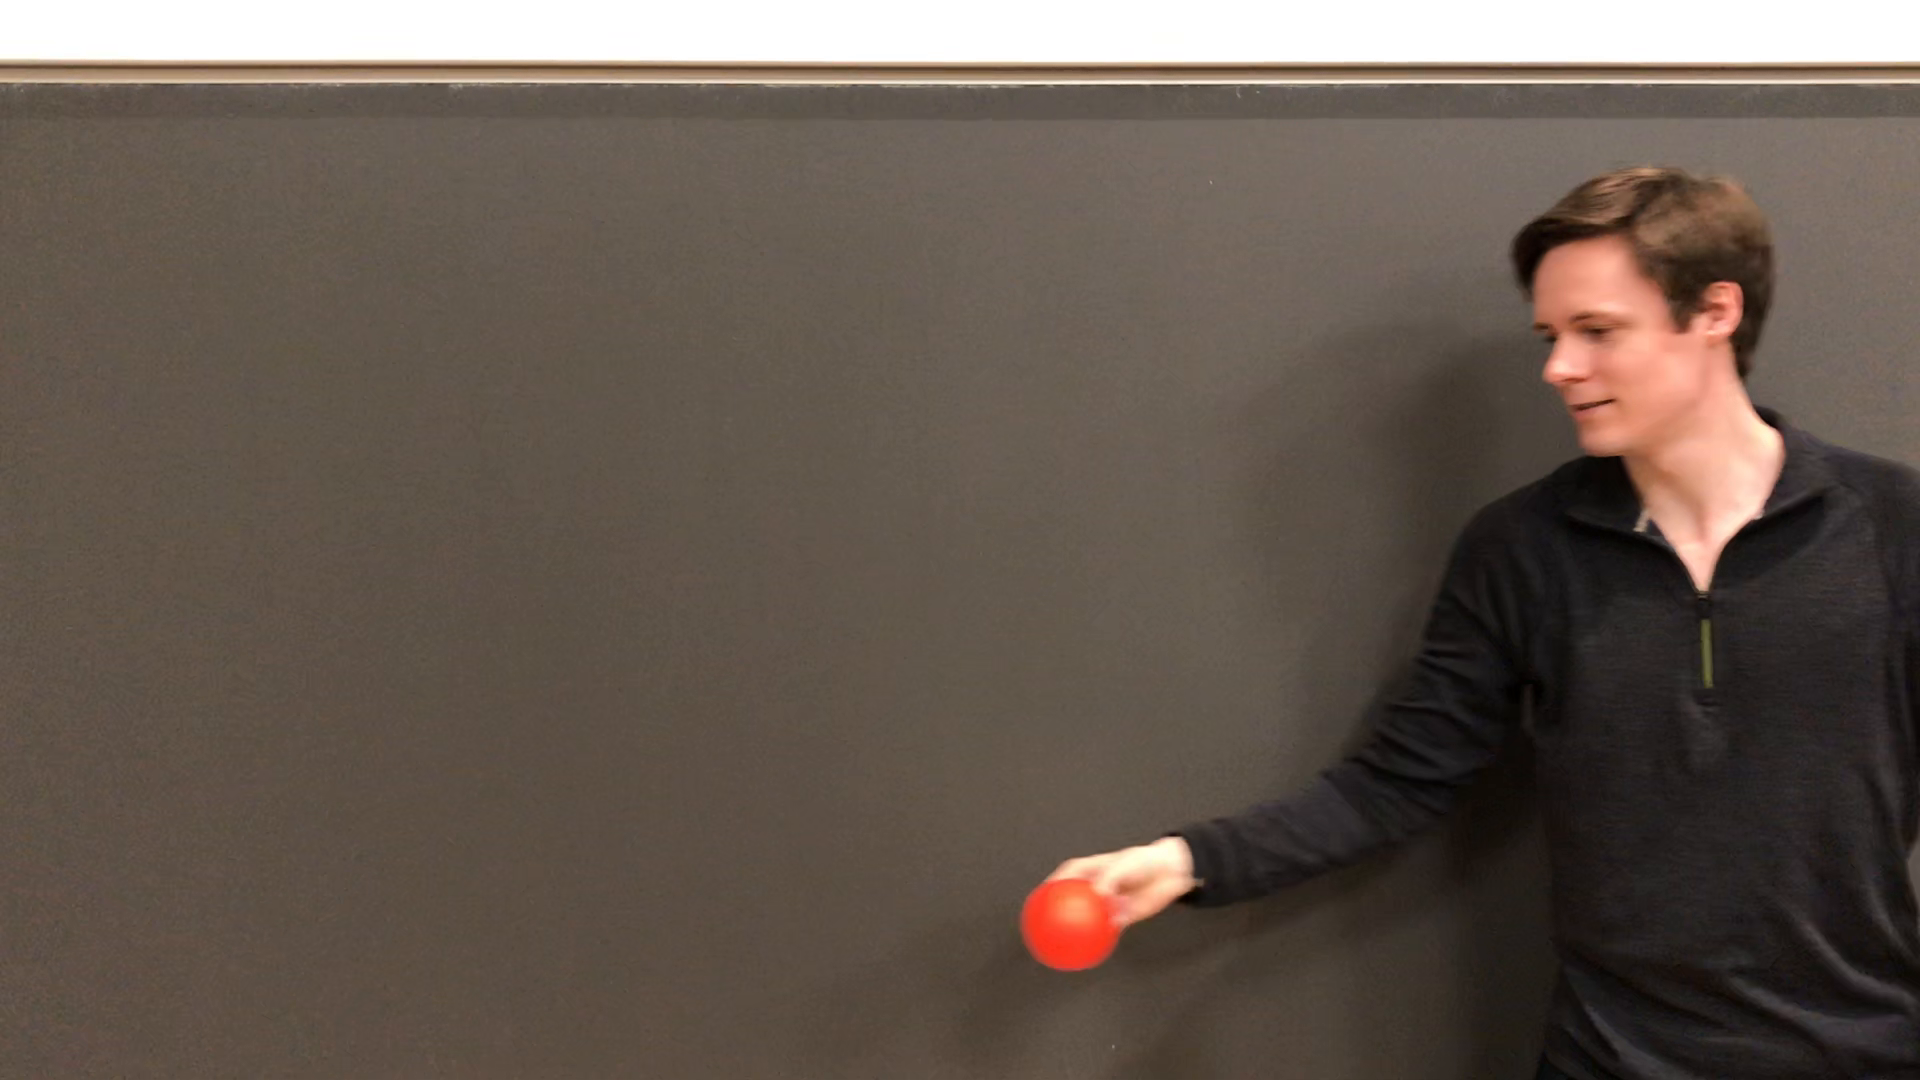Ball: (1019, 880, 1124, 976)
